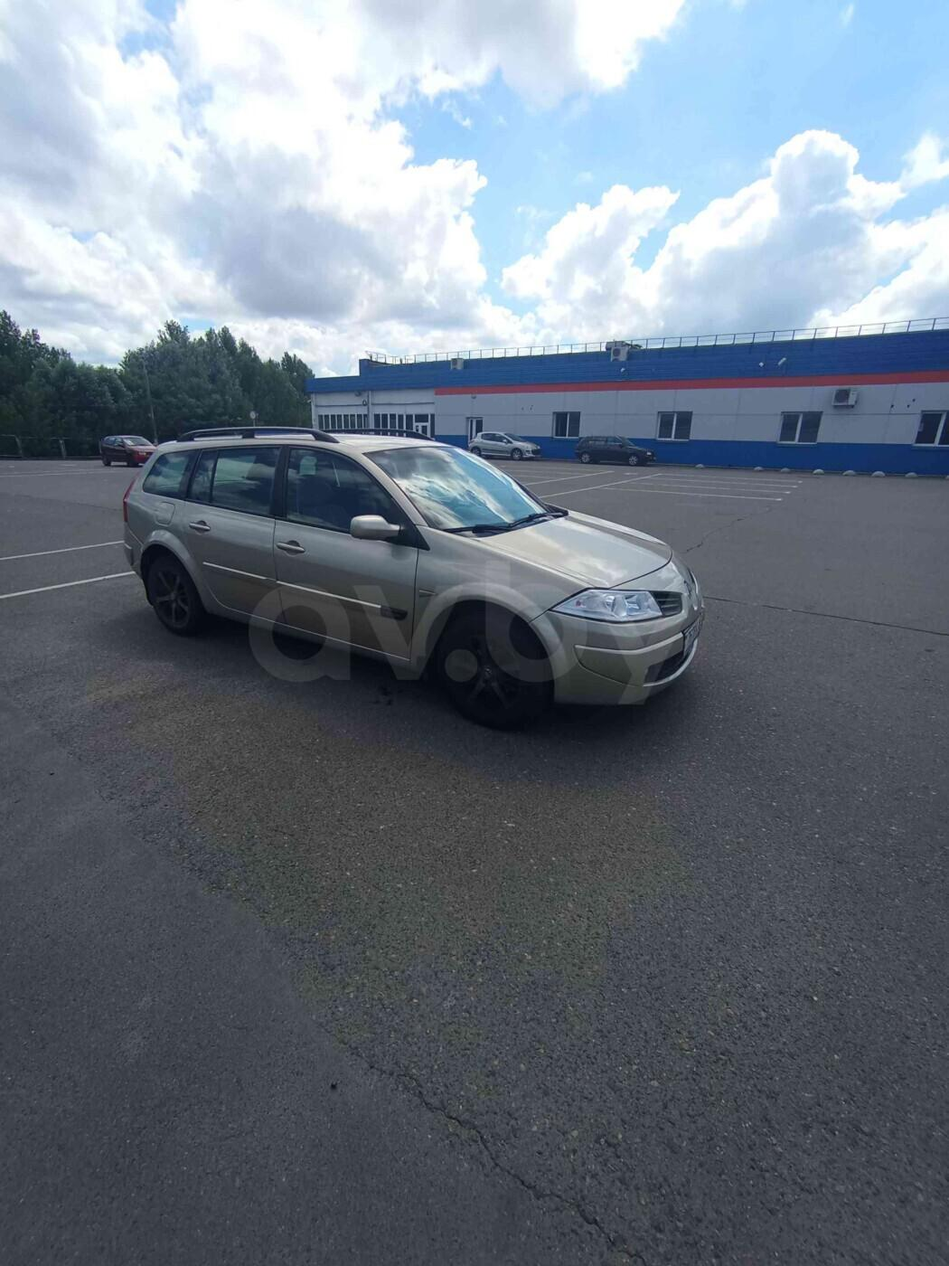Megane_2005-2009: (125, 420, 712, 742)
